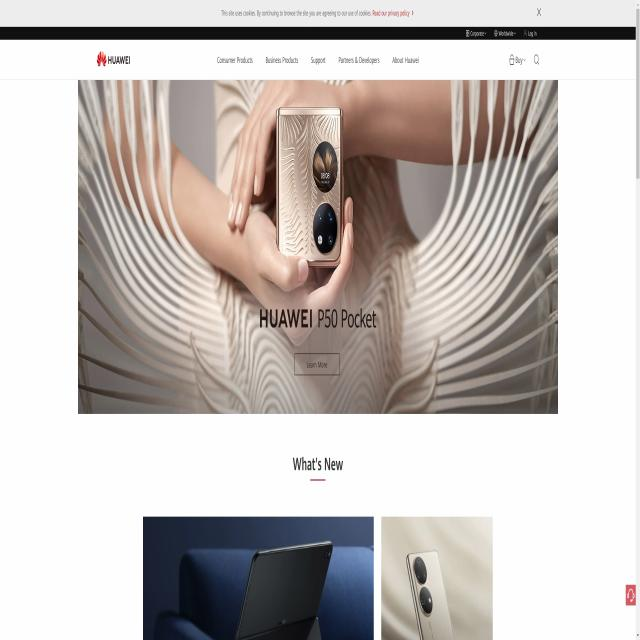menu-bar: (506, 46, 546, 72)
tab-bar: (212, 46, 424, 77)
